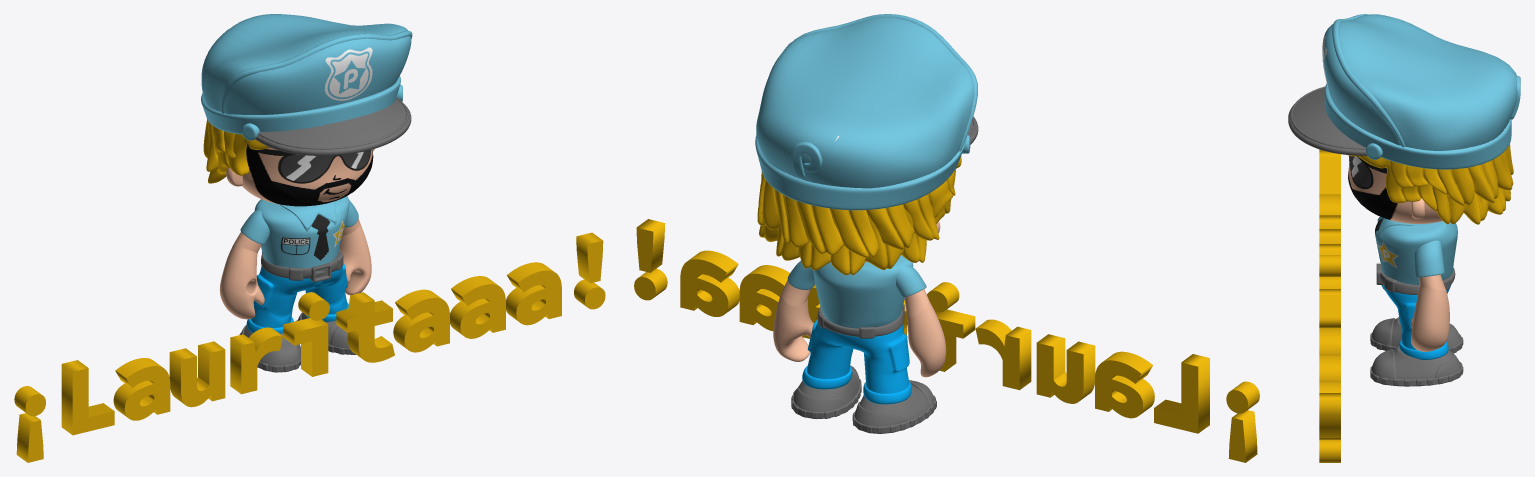
File: Certificado.glb
The picture shows the model from 3 angles, left to right: view 1: azimuth 30°, elevation 25°; view 2: azimuth 150°, elevation 25°; view 3: azimuth 270°, elevation 25°; orthographic projection. The views are drawn at different scales.
Visible parts, largest first — view 1: Text, Box165717.077, Box165717, Box165717.007, Box165717.062, Box165717.061, Box165717.066, Box165717.003, Mano, Box165717.076, Box165717.079, Box165717.080 (+3 smaller); view 2: Box165717.077, Text, Box165717.080, Box165717.007, Box165717.066, Box165717.061, Box165717.079, Mano, Box165717.003, Box165717.076, Box165717.067, Box165717.065 (+5 smaller); view 3: Box165717.077, Text, Box165717.061, Box165717.080, Mano, Box165717.007, Box165717.079, Box165717, Box165717.062, Box165717.073, Box165717.076, Box165717.066 (+9 smaller).
Boxes of the visible parts, box(x1,y1,x2,y2) form: Text: box(14, 232, 605, 462); Box165717.077: box(201, 14, 411, 114); Box165717: box(242, 143, 373, 206); Box165717.007: box(254, 196, 349, 268); Box165717.062: box(255, 99, 411, 155); Box165717.061: box(201, 76, 400, 134); Box165717.066: box(251, 263, 347, 327); Box165717.003: box(219, 232, 264, 319); Mano: box(339, 200, 371, 295); Box165717.076: box(220, 30, 412, 113); Box165717.079: box(208, 134, 297, 183); Box165717.080: box(203, 119, 236, 171); Box165717.077: box(756, 17, 974, 188); Text: box(634, 219, 1259, 462); Box165717.080: box(757, 171, 955, 257); Box165717.007: box(813, 255, 913, 328); Box165717.066: box(807, 319, 909, 393); Box165717.061: box(755, 134, 966, 210); Box165717.079: box(759, 156, 961, 275); Mano: box(773, 261, 815, 361); Box165717.003: box(904, 289, 946, 377); Box165717.076: box(794, 14, 977, 151); Box165717.067: box(860, 384, 929, 420); Box165717.065: box(791, 142, 822, 178); Box165717.077: box(1322, 14, 1517, 150); Text: box(1319, 149, 1340, 462); Box165717.061: box(1324, 83, 1511, 169); Box165717.080: box(1390, 144, 1513, 205); Mano: box(1410, 240, 1449, 351); Box165717.007: box(1375, 218, 1457, 284); Box165717.079: box(1347, 155, 1510, 224); Box165717: box(1348, 156, 1463, 223); Box165717.062: box(1288, 87, 1367, 155); Box165717.073: box(1393, 346, 1453, 379); Box165717.076: box(1332, 14, 1405, 147); Box165717.066: box(1383, 285, 1450, 350).
Size of the model in its own units: 1.39 by 0.7801 by 0.4938.
Materials: 8 (3 with a texture image).
